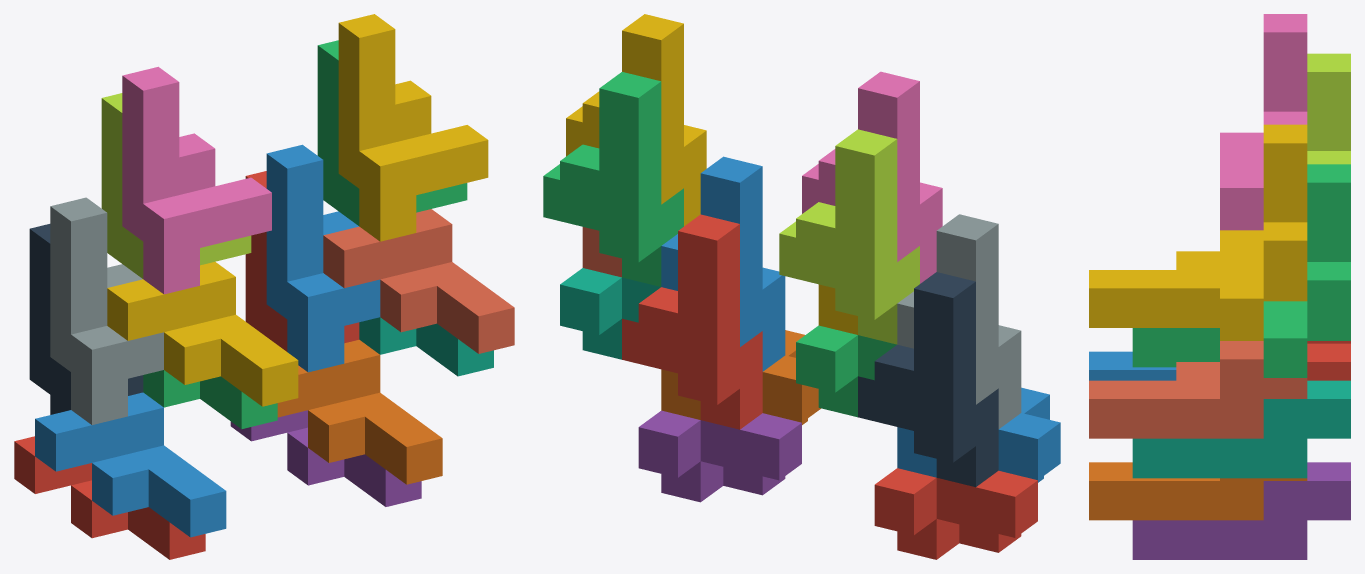
The model's file is tiling.obj.
The picture shows the model from 3 angles, left to right: view 1: azimuth 30°, elevation 25°; view 2: azimuth 150°, elevation 25°; view 3: azimuth 270°, elevation 25°; orthographic projection. The views are drawn at different scales.
Visible parts, largest first — view 1: copy_2_domain_8, copy_2_domain_4, copy_2_domain_2, copy_2_domain_6, copy_1_domain_8, copy_1_domain_2, copy_1_domain_4, copy_1_domain_6, copy_1_domain_1, copy_1_domain_5, copy_2_domain_3, copy_2_domain_7 (+4 smaller); view 2: copy_2_domain_1, copy_2_domain_5, copy_2_domain_3, copy_2_domain_7, copy_1_domain_5, copy_1_domain_1, copy_2_domain_8, copy_2_domain_4, copy_2_domain_2, copy_2_domain_6, copy_1_domain_7, copy_1_domain_3 (+4 smaller); view 3: copy_1_domain_8, copy_2_domain_8, copy_1_domain_7, copy_1_domain_5, copy_2_domain_7, copy_2_domain_4, copy_1_domain_4, copy_1_domain_6, copy_2_domain_3, copy_1_domain_3, copy_1_domain_2, copy_2_domain_5.
Part boxes in pixels (<box>): copy_2_domain_8: <box>338,14,488,241</box>; copy_2_domain_4: <box>122,66,271,294</box>; copy_2_domain_2: <box>50,197,163,424</box>; copy_2_domain_6: <box>266,144,380,372</box>; copy_1_domain_8: <box>323,209,514,353</box>; copy_1_domain_2: <box>35,392,226,537</box>; copy_1_domain_4: <box>107,262,298,406</box>; copy_1_domain_6: <box>277,339,442,484</box>; copy_1_domain_1: <box>14,436,205,559</box>; copy_1_domain_5: <box>230,410,421,506</box>; copy_2_domain_3: <box>101,93,251,278</box>; copy_2_domain_7: <box>317,40,467,225</box>; copy_2_domain_1: <box>858,272,998,487</box>; copy_2_domain_5: <box>622,214,762,429</box>; copy_2_domain_3: <box>779,129,919,344</box>; copy_2_domain_7: <box>543,72,683,286</box>; copy_1_domain_5: <box>638,410,801,502</box>; copy_1_domain_1: <box>874,468,1037,559</box>; copy_2_domain_8: <box>566,14,706,226</box>; copy_2_domain_4: <box>802,71,942,283</box>; copy_2_domain_2: <box>897,214,1021,428</box>; copy_2_domain_6: <box>661,156,785,371</box>; copy_1_domain_7: <box>560,268,660,359</box>; copy_1_domain_3: <box>796,325,896,417</box>; copy_1_domain_8: <box>1089,341,1307,438</box>; copy_2_domain_8: <box>1220,124,1307,340</box>; copy_1_domain_7: <box>1132,380,1350,478</box>; copy_1_domain_5: <box>1132,462,1350,559</box>; copy_2_domain_7: <box>1263,164,1350,377</box>; copy_2_domain_4: <box>1220,14,1307,230</box>; copy_1_domain_4: <box>1089,230,1263,327</box>; copy_1_domain_6: <box>1089,462,1307,520</box>; copy_2_domain_3: <box>1307,53,1350,164</box>; copy_1_domain_3: <box>1132,328,1219,367</box>; copy_1_domain_2: <box>1089,351,1176,380</box>; copy_2_domain_5: <box>1307,341,1350,380</box>.
Bounding box in the file's own units: 12 × 11 × 6.
